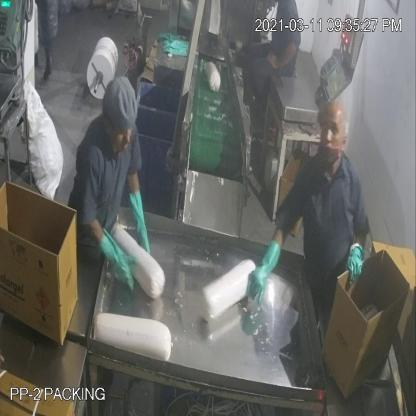glove: (242, 232, 284, 308), (125, 188, 158, 274), (97, 226, 133, 295), (342, 231, 364, 284)
no_glove: (266, 32, 301, 84)
